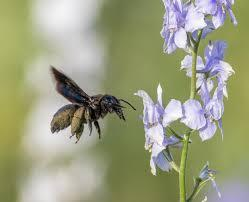Xylocopa: (42, 64, 127, 143)
